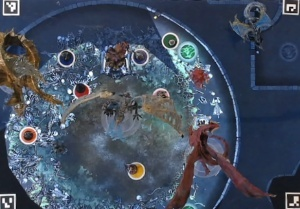blue: (56, 48, 76, 68)
green: (160, 30, 179, 50)
orange: (19, 125, 39, 144)
pink: (151, 84, 173, 104)
red: (71, 82, 91, 99)
violet: (128, 47, 150, 67)
yellow: (124, 158, 148, 183)
